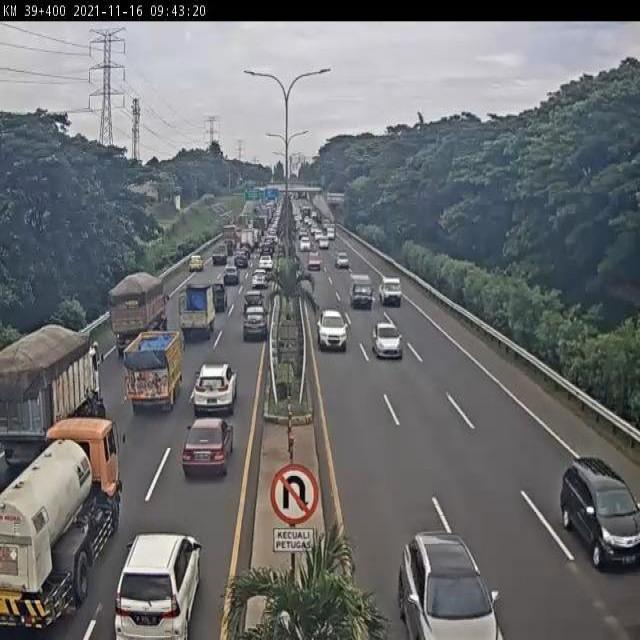car: (400, 532, 502, 640), (117, 529, 203, 640), (551, 454, 638, 562), (182, 415, 232, 485), (198, 352, 239, 409), (317, 308, 349, 355), (372, 317, 403, 360), (384, 271, 410, 305), (246, 307, 266, 344), (210, 278, 226, 314), (184, 251, 206, 273), (246, 286, 261, 314), (224, 263, 239, 289), (308, 248, 323, 271), (331, 245, 348, 264), (253, 269, 265, 292), (260, 253, 271, 271), (303, 233, 306, 247)
small truck: (348, 278, 371, 310), (213, 243, 226, 264)
truck-l-: (0, 413, 122, 640), (0, 325, 110, 476), (111, 272, 169, 361)
truck-m-: (123, 327, 185, 416), (180, 279, 217, 340)
